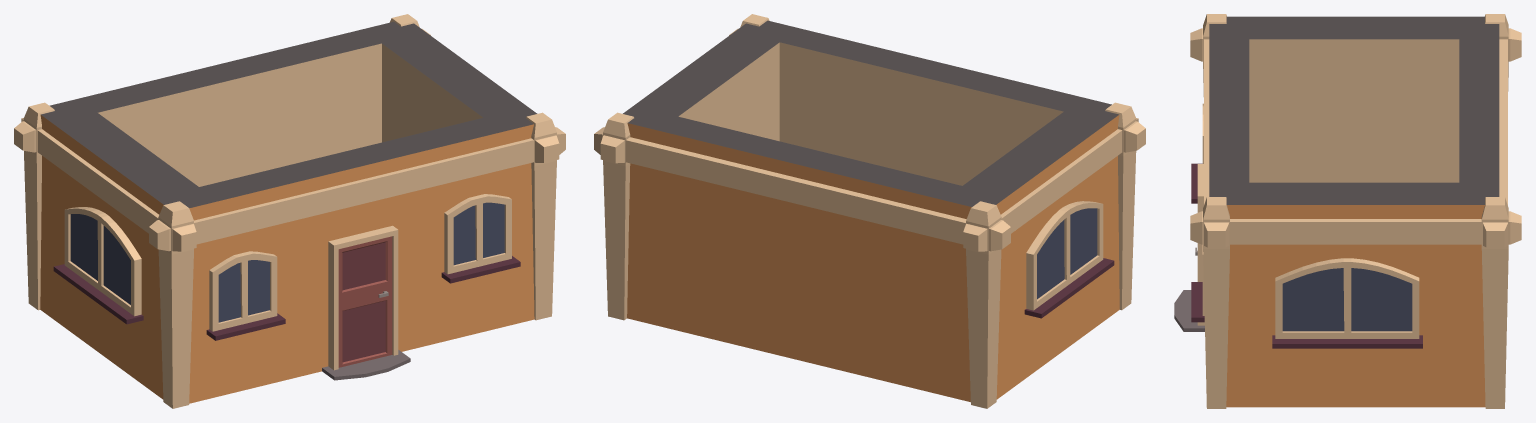
File: Testhouse_Foundation_VAR1.fbx
3 views of the same model, side by side, from view 1: azimuth 30°, elevation 25°; view 2: azimuth 150°, elevation 25°; view 3: azimuth 270°, elevation 25° (orthographic). The views are drawn at different scales.
Visible parts, largest first — view 1: Testhouse_Foundation.001; view 2: Testhouse_Foundation.001; view 3: Testhouse_Foundation.001.
Boxes of the visible parts, x1,y1,x2,y2 form: Testhouse_Foundation.001: [14, 14, 565, 408]; Testhouse_Foundation.001: [594, 14, 1145, 408]; Testhouse_Foundation.001: [1174, 14, 1521, 408].
Size of the model in its own units: 219 by 156 by 101.
